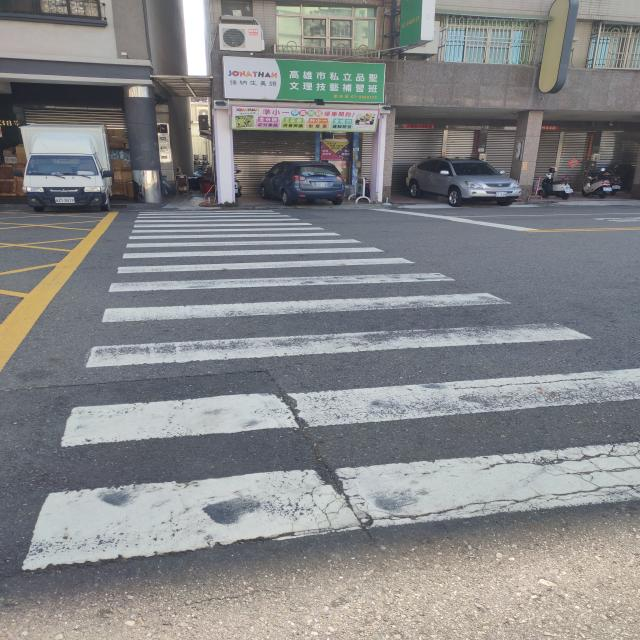zebra_crossing: (499, 270, 640, 480)
